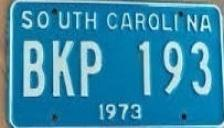1: (137, 39, 155, 100)
3: (189, 39, 215, 98)
9: (160, 38, 187, 99)
B: (21, 39, 47, 99)
K: (51, 38, 78, 100)
P: (79, 38, 104, 99)
